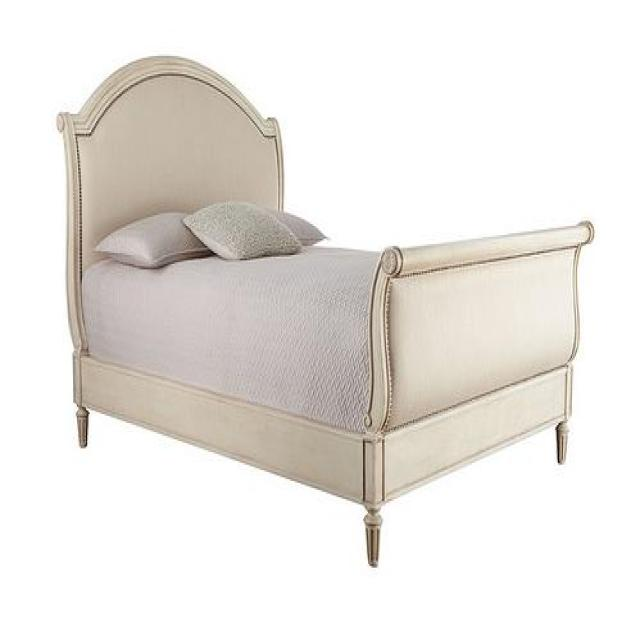bed: (55, 52, 594, 566)
